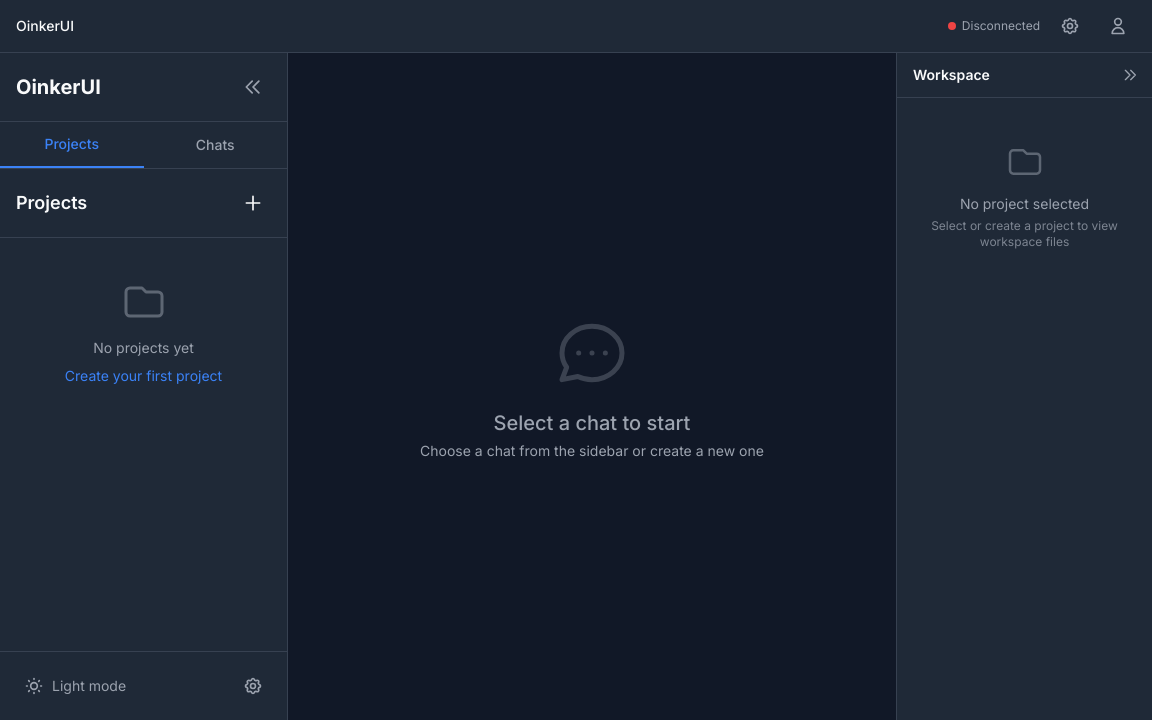
Test: App Integration › shows create project modal when + button is clicked
The width and height of the screenshot is (1152, 720).
// Find and click the new project button (+ icon in Projects section)
Click the button titled "New Project": coordinates (253, 203) [235,185,271,221]
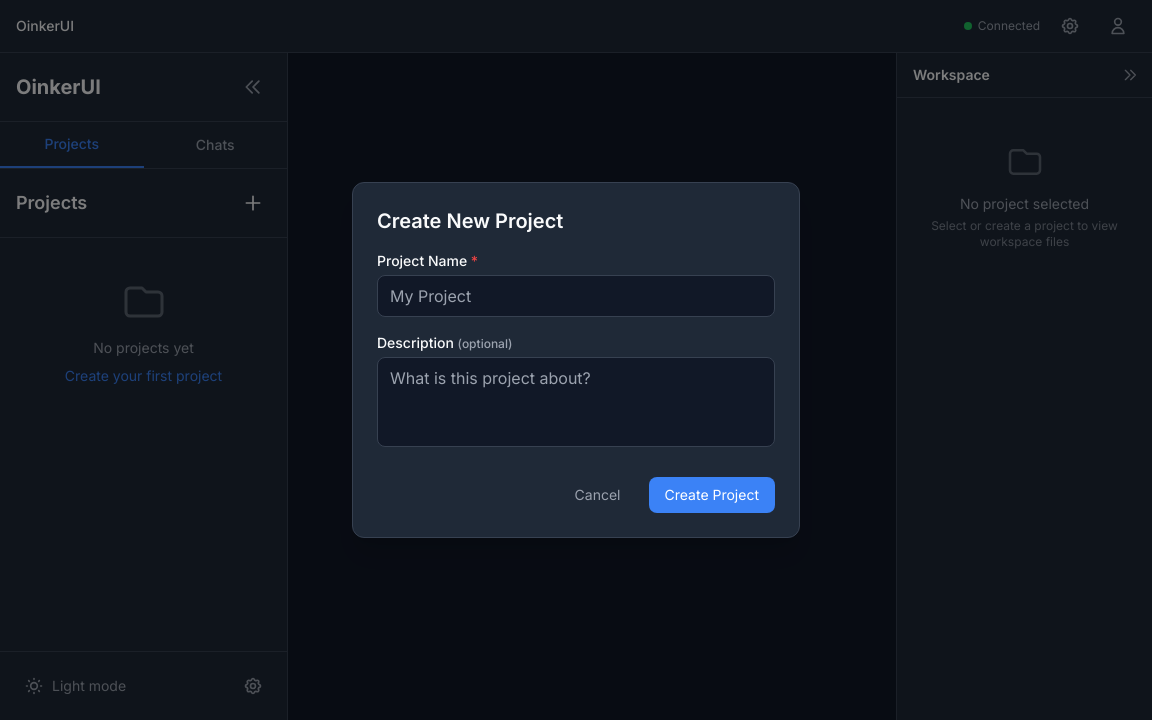
Expected: the heading "Create New Project" is shown, [377,209,563,233]
Expected: the field labelled "Project Name *" is shown, [377,275,775,317]
